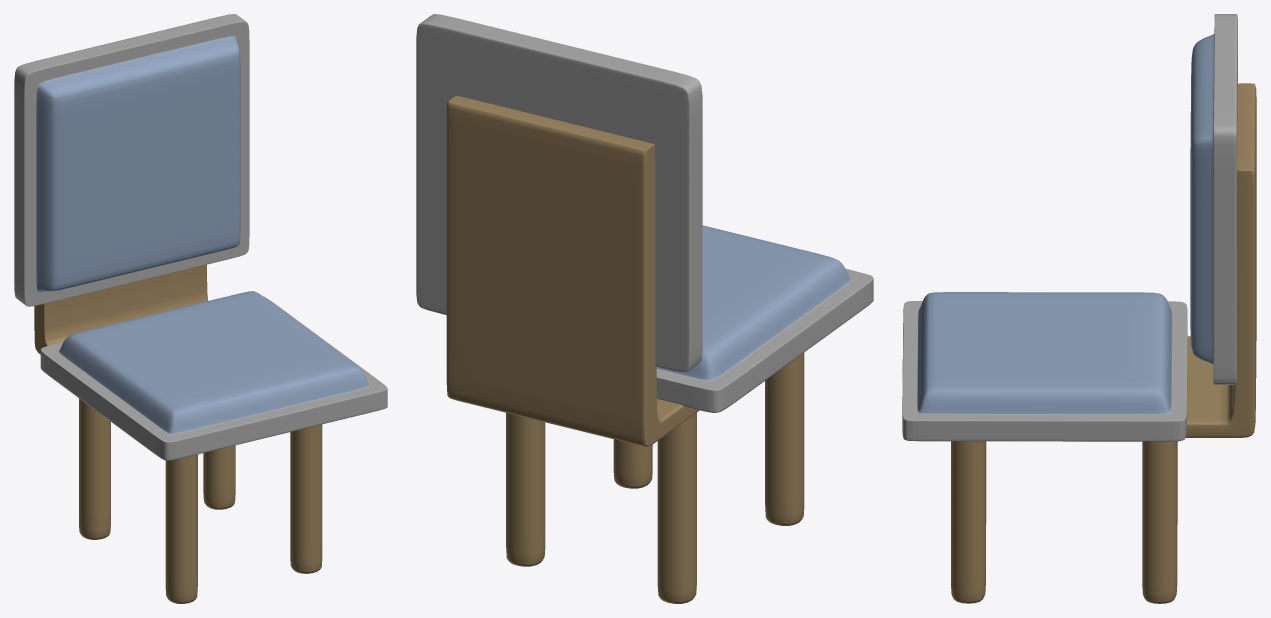
File: MM_SillaComedor2.fbx
3 views of the same model, side by side, from view 1: azimuth 30°, elevation 25°; view 2: azimuth 150°, elevation 25°; view 3: azimuth 270°, elevation 25° (orthographic). The views are drawn at different scales.
Visible parts, largest first — view 1: Silla_comedor3Shape; view 2: Silla_comedor3Shape; view 3: Silla_comedor3Shape.
Boxes of the visible parts, x1,y1,x2,y2 form: Silla_comedor3Shape: (14, 14, 387, 603); Silla_comedor3Shape: (416, 14, 873, 603); Silla_comedor3Shape: (902, 14, 1256, 603).
Bounding box in the file's own units: 9.03 × 17.32 × 11.19.
